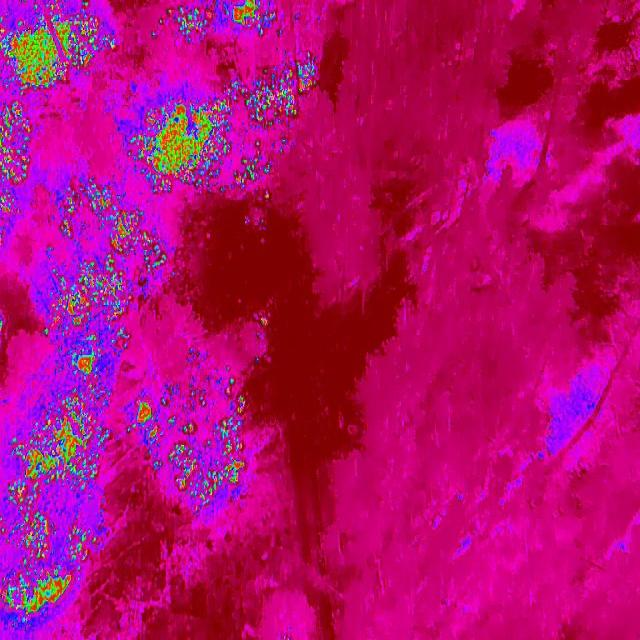fire: (3, 383, 108, 515), (125, 93, 236, 201), (158, 384, 250, 514), (50, 177, 174, 269), (0, 0, 105, 94), (237, 54, 324, 134), (42, 257, 131, 325), (0, 101, 36, 262), (145, 0, 278, 42), (0, 560, 80, 626), (11, 510, 100, 565), (237, 138, 278, 198), (64, 331, 110, 381), (122, 394, 162, 447)
